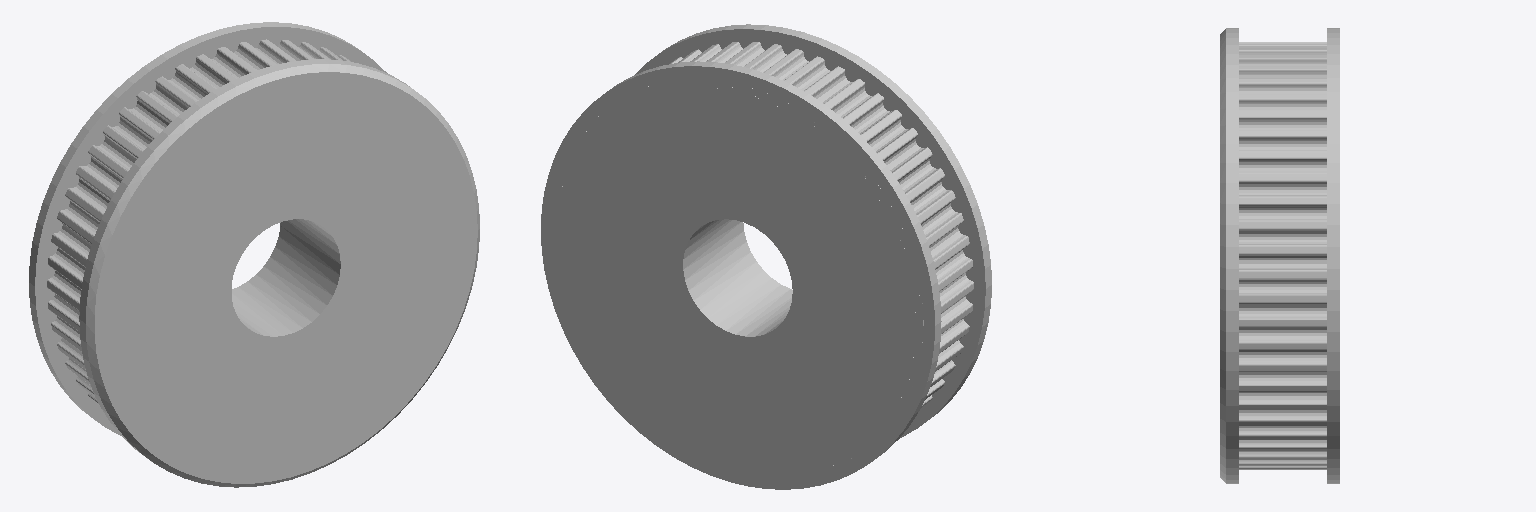
Rendered from gearboxInput.obj.
3 renders of one model, left to right at view 1: azimuth 30°, elevation 25°; view 2: azimuth 150°, elevation 25°; view 3: azimuth 270°, elevation 25°, orthographic.
Visible parts, largest first — view 1: Body1; view 2: Body1; view 3: Body1.
Part boxes in pixels (left/top/right/bottom): Body1: left=29, top=22, right=479, bottom=487; Body1: left=541, top=24, right=991, bottom=489; Body1: left=1220, top=28, right=1339, bottom=483.
Bounding box in the file's own units: 3.6 × 3.6 × 0.9508.